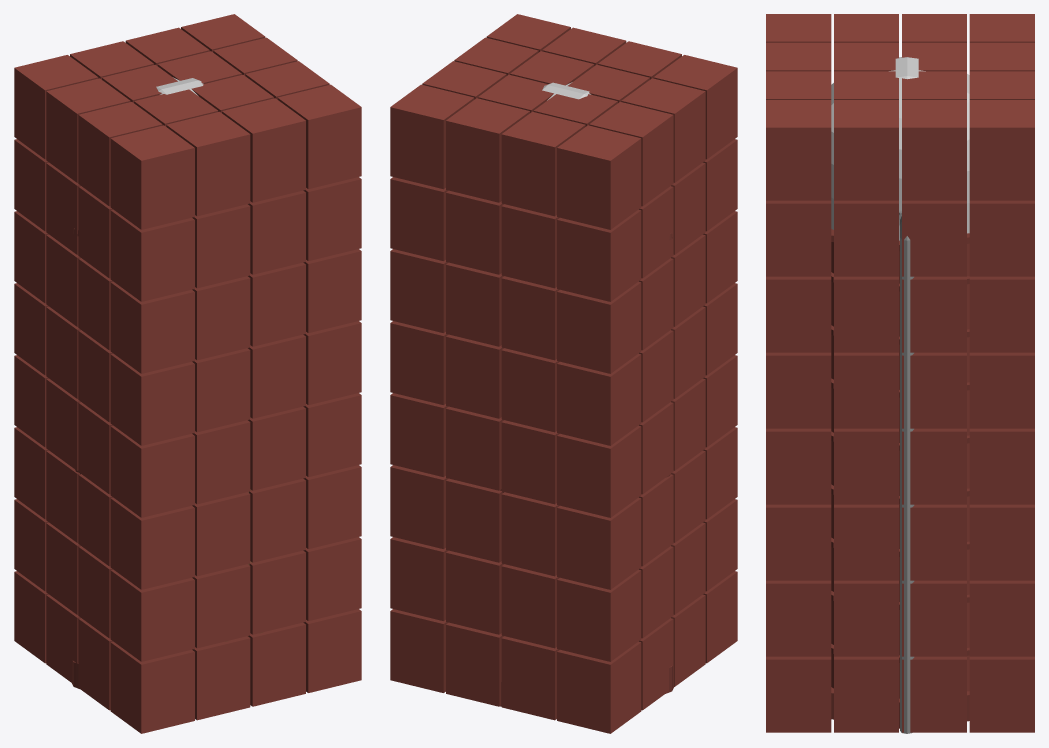
The model's file is Silo_destructible.gltf.
3 renders of one model, left to right at view 1: azimuth 30°, elevation 25°; view 2: azimuth 150°, elevation 25°; view 3: azimuth 270°, elevation 25°, orthographic. The views are drawn at different scales.
Visible parts, largest first — view 1: block_f7_r3_c0, block_f0_r3_c0, block_f1_r3_c0, block_f2_r3_c0, block_f3_r3_c0, block_f4_r3_c0, block_f5_r3_c0, block_f6_r3_c0, block_f7_r3_c3, block_f7_r3_c2, block_f7_r3_c1, block_f2_r3_c2 (+53 smaller); view 2: block_f7_r0_c0, block_f0_r0_c0, block_f1_r0_c0, block_f2_r0_c0, block_f3_r0_c0, block_f4_r0_c0, block_f5_r0_c0, block_f6_r0_c0, block_f7_r0_c3, block_f7_r0_c2, block_f7_r0_c1, block_f0_r0_c2 (+53 smaller); view 3: block_f7_r1_c3, block_f7_r2_c3, block_f7_r0_c3, block_f7_r3_c3, block_f6_r1_c3, block_f6_r2_c3, block_f0_r2_c3, block_f3_r2_c3, block_f3_r1_c3, block_f5_r2_c3, block_f1_r2_c3, block_f1_r1_c3 (+32 smaller).
Boxes of the visible parts, x1,y1,x2,y2 form: block_f7_r3_c0: (110,125,194,229); block_f0_r3_c0: (110,641,194,733); block_f1_r3_c0: (110,569,194,661); block_f2_r3_c0: (110,497,194,589); block_f3_r3_c0: (110,425,194,517); block_f4_r3_c0: (110,353,194,445); block_f5_r3_c0: (110,281,194,373); block_f6_r3_c0: (110,209,194,301); block_f7_r3_c3: (277,84,361,189); block_f7_r3_c2: (222,98,305,202); block_f7_r3_c1: (166,111,250,216); block_f2_r3_c2: (248,478,305,562); block_f7_r0_c0: (557,125,641,229); block_f0_r0_c0: (557,641,641,733); block_f1_r0_c0: (557,569,641,661); block_f2_r0_c0: (557,497,641,589); block_f3_r0_c0: (557,425,641,517); block_f4_r0_c0: (557,353,641,445); block_f5_r0_c0: (557,281,641,373); block_f6_r0_c0: (557,209,641,301); block_f7_r0_c3: (390,84,474,189); block_f7_r0_c2: (446,98,529,202); block_f7_r0_c1: (501,111,585,216); block_f0_r0_c2: (446,622,503,706); block_f7_r1_c3: (900,100,968,200); block_f7_r2_c3: (832,100,900,200); block_f7_r0_c3: (968,100,1034,200); block_f7_r3_c3: (766,100,832,200); block_f6_r1_c3: (900,181,968,278); block_f6_r2_c3: (832,175,900,276); block_f0_r2_c3: (832,638,900,732); block_f3_r2_c3: (832,410,900,504); block_f3_r1_c3: (900,413,968,506); block_f5_r2_c3: (832,258,900,352); block_f1_r2_c3: (832,562,900,656); block_f1_r1_c3: (900,565,968,658).
Size of the model in its own units: 8 by 19.78 by 7.92.
